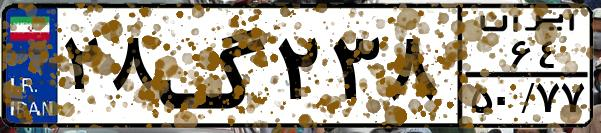0: (495, 70, 520, 125)
2: (270, 28, 330, 110), (57, 26, 110, 100)
3: (330, 28, 385, 110)
4: (537, 27, 568, 80)
5: (470, 70, 495, 125)
6: (508, 27, 537, 80)
7: (560, 70, 590, 125), (535, 70, 560, 125)
8: (385, 28, 445, 110), (110, 28, 156, 98)
گ: (156, 12, 270, 120)
